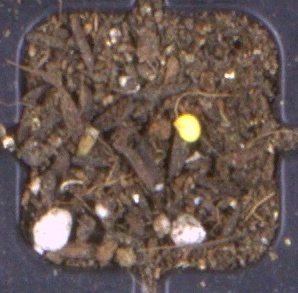chilli seed: (173, 113, 201, 142)
